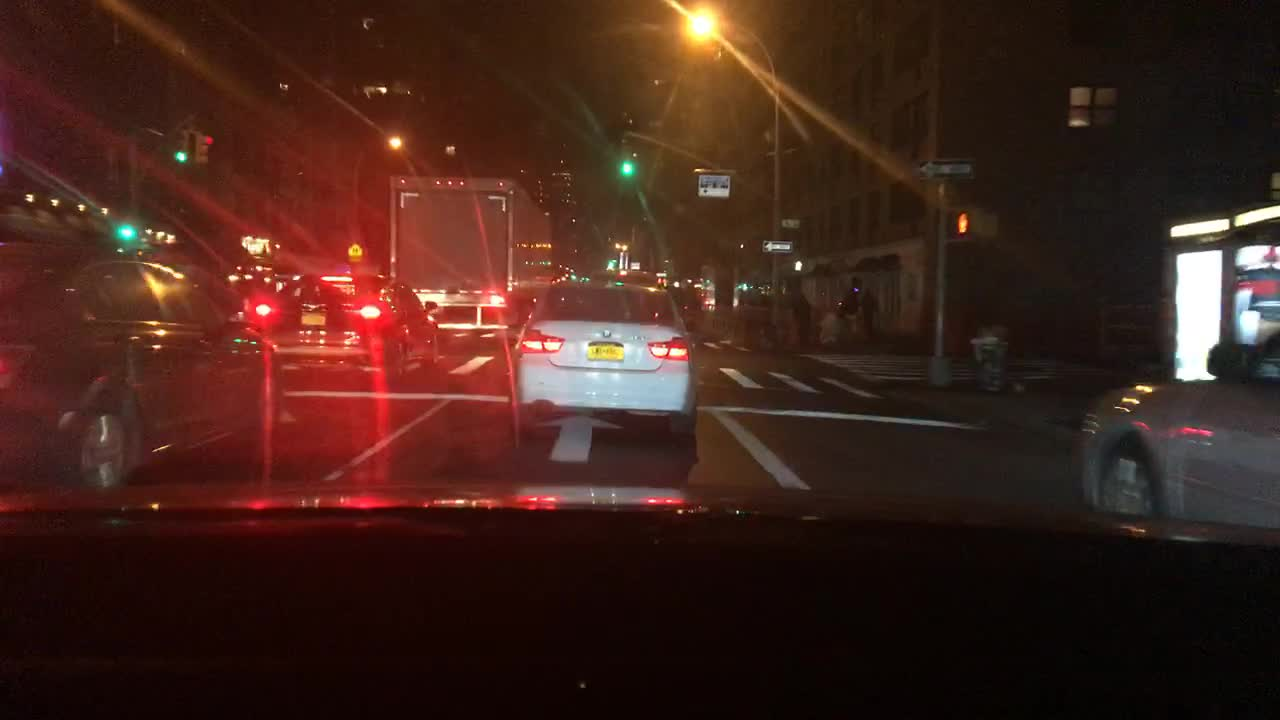car: (0, 242, 281, 489), (1079, 325, 1278, 531), (506, 281, 697, 445), (255, 274, 441, 383)
person: (837, 285, 860, 344), (791, 291, 812, 350), (859, 286, 875, 340)
traffic light: (955, 208, 999, 242), (192, 132, 212, 163), (172, 131, 189, 163), (620, 147, 632, 177), (122, 215, 136, 239), (789, 259, 811, 272)
traffic sign: (915, 158, 975, 182), (698, 174, 729, 197), (346, 243, 361, 265), (762, 242, 791, 252), (783, 218, 801, 227)
truck: (388, 173, 551, 345)
